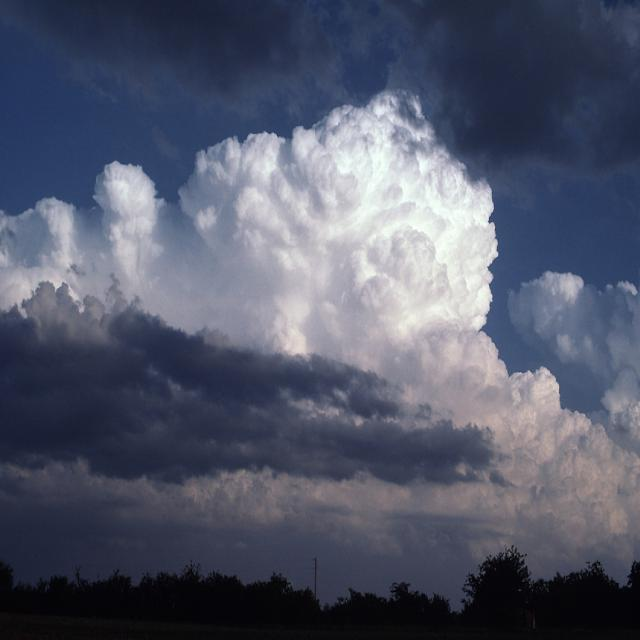cumulonimbus: (1, 46, 640, 572)
